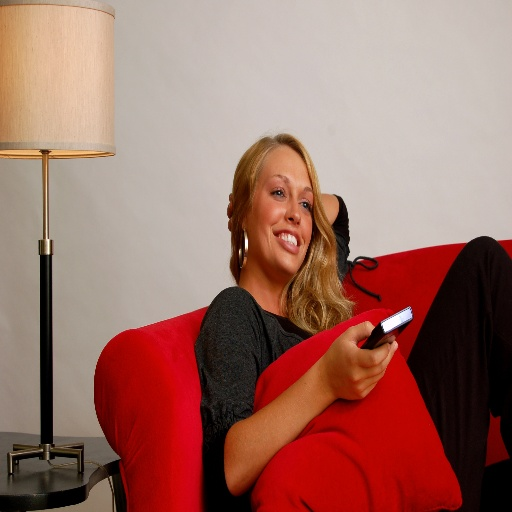hand: (280, 322, 405, 425), (226, 190, 233, 232)
